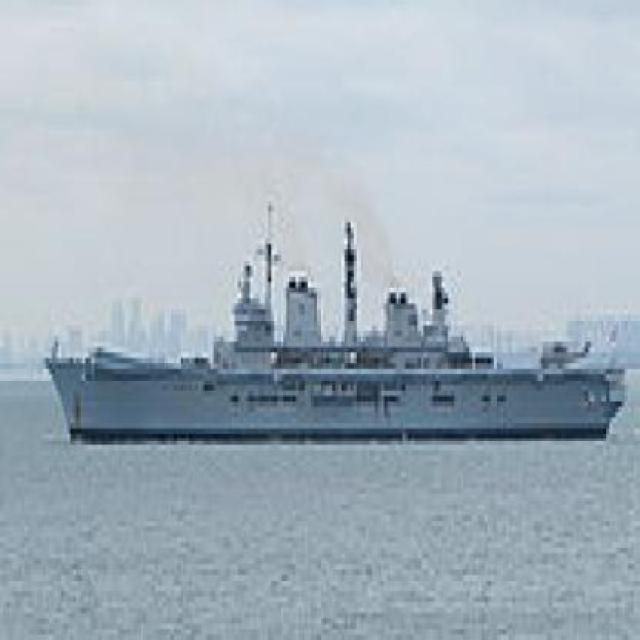warship2: (40, 186, 633, 467)
